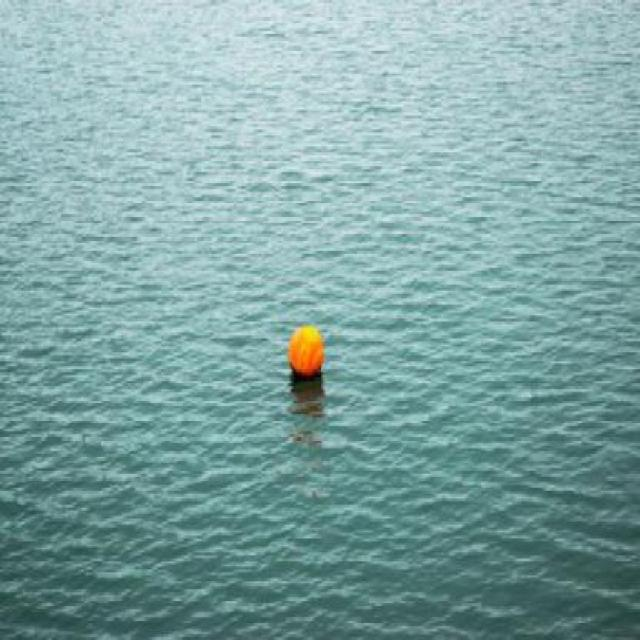a: (279, 300, 333, 399)
